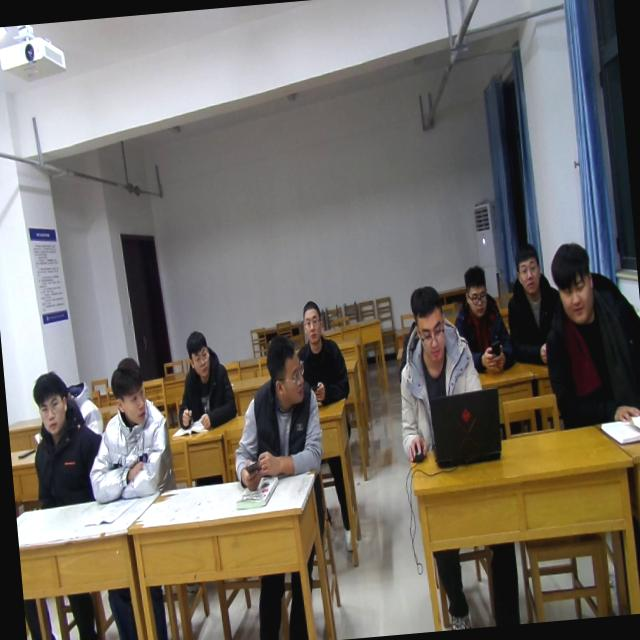down: (406, 277, 452, 368), (458, 258, 492, 320)
lookup: (544, 238, 602, 331), (28, 369, 74, 439), (510, 236, 544, 295), (183, 325, 214, 383), (298, 292, 324, 344)
sit: (533, 235, 640, 429), (386, 279, 493, 467), (223, 330, 326, 494), (76, 352, 178, 509), (23, 368, 102, 518), (501, 238, 567, 370), (446, 258, 513, 376), (170, 326, 238, 432), (290, 296, 352, 409)
